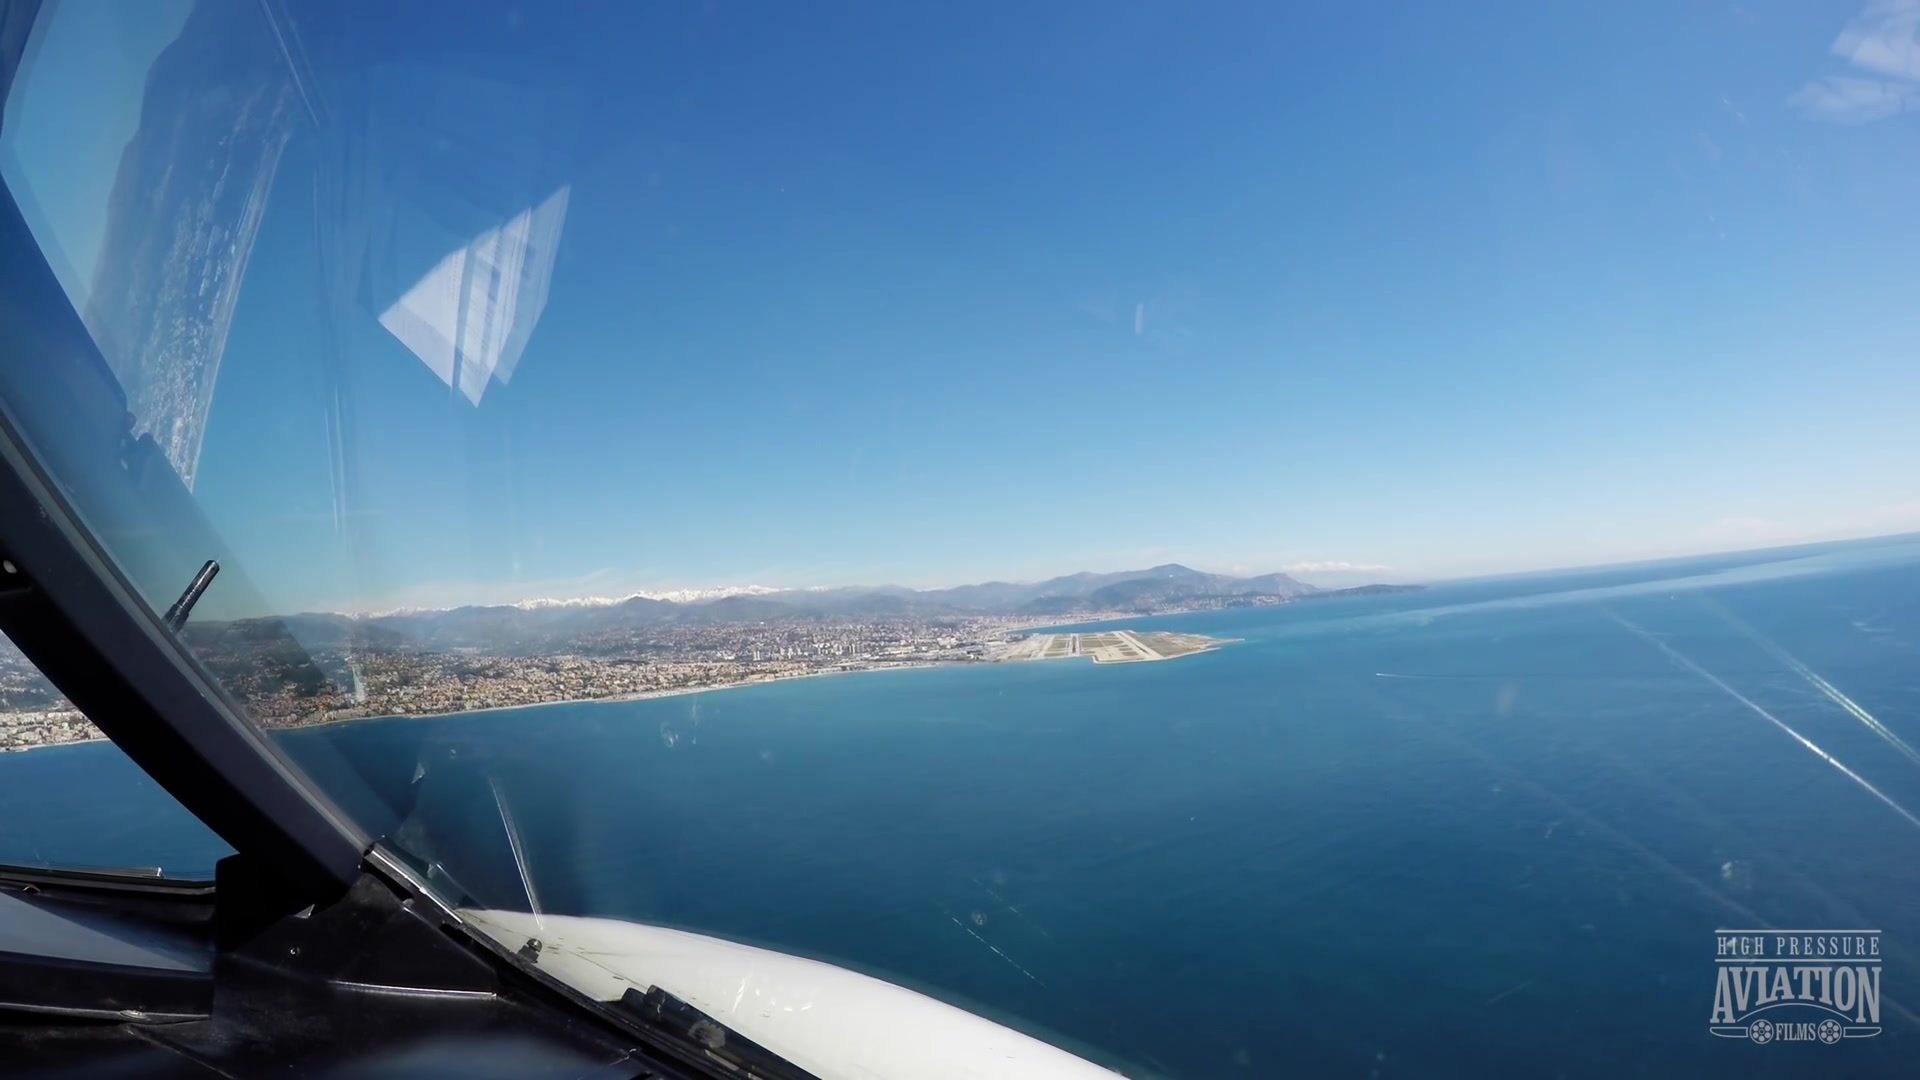runway: (1110, 632, 1164, 661), (1065, 633, 1083, 657)
